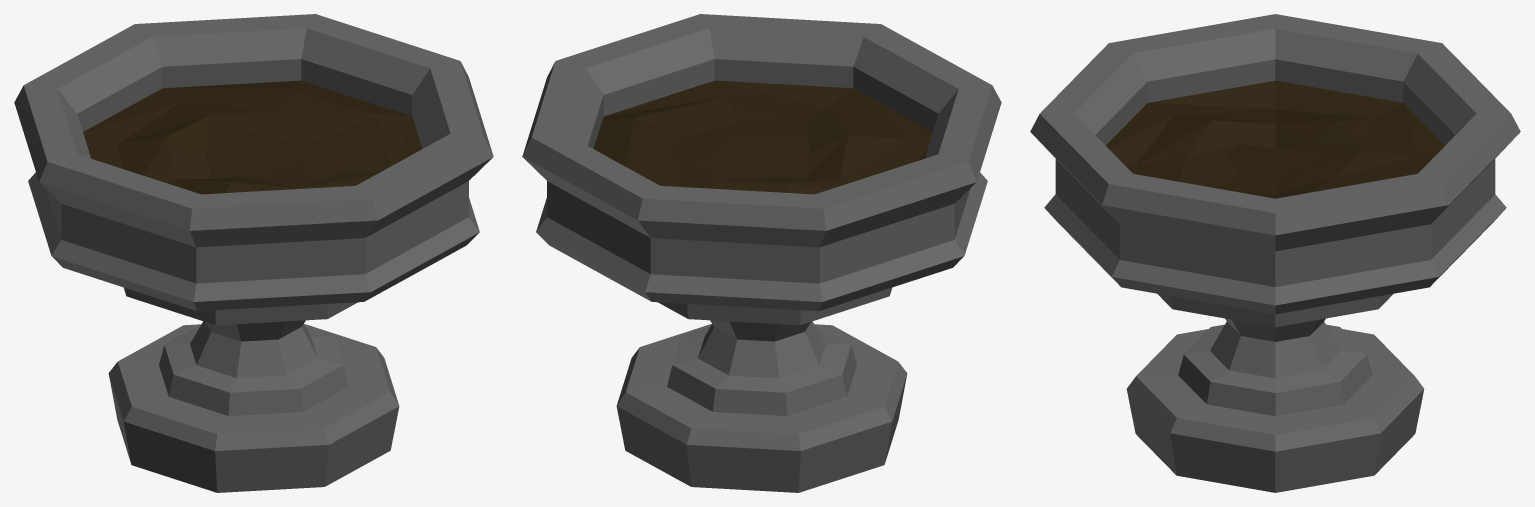
File: PlantsPot01.fbx
3 views of the same model, side by side, from view 1: azimuth 30°, elevation 25°; view 2: azimuth 150°, elevation 25°; view 3: azimuth 270°, elevation 25° (orthographic).
Parts seen in each view (by area): view 1: PlantsPot01; view 2: PlantsPot01; view 3: PlantsPot01.
Boxes of the visible parts, x1,y1,x2,y2 form: PlantsPot01: [14, 14, 493, 492]; PlantsPot01: [522, 14, 1001, 492]; PlantsPot01: [1030, 14, 1520, 492].
Size of the model in its own units: 83.73 by 60.29 by 83.73.
